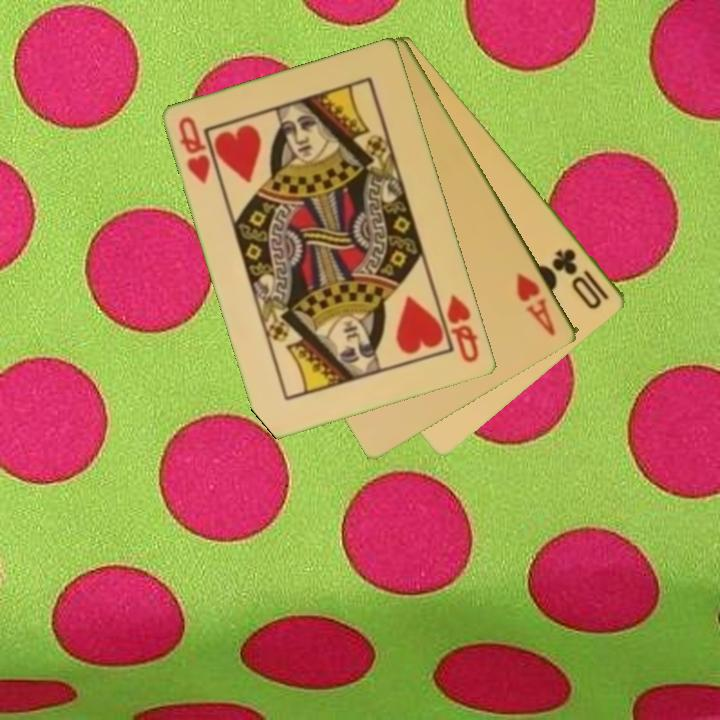10c: (549, 244, 613, 313)
Ah: (513, 269, 559, 339)
Qh: (443, 290, 483, 366), (175, 113, 214, 187)
